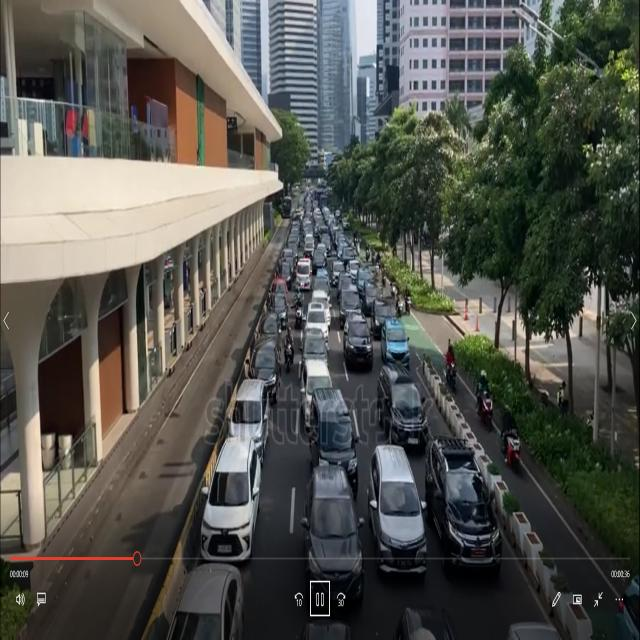Ambulance: (296, 254, 312, 296)
